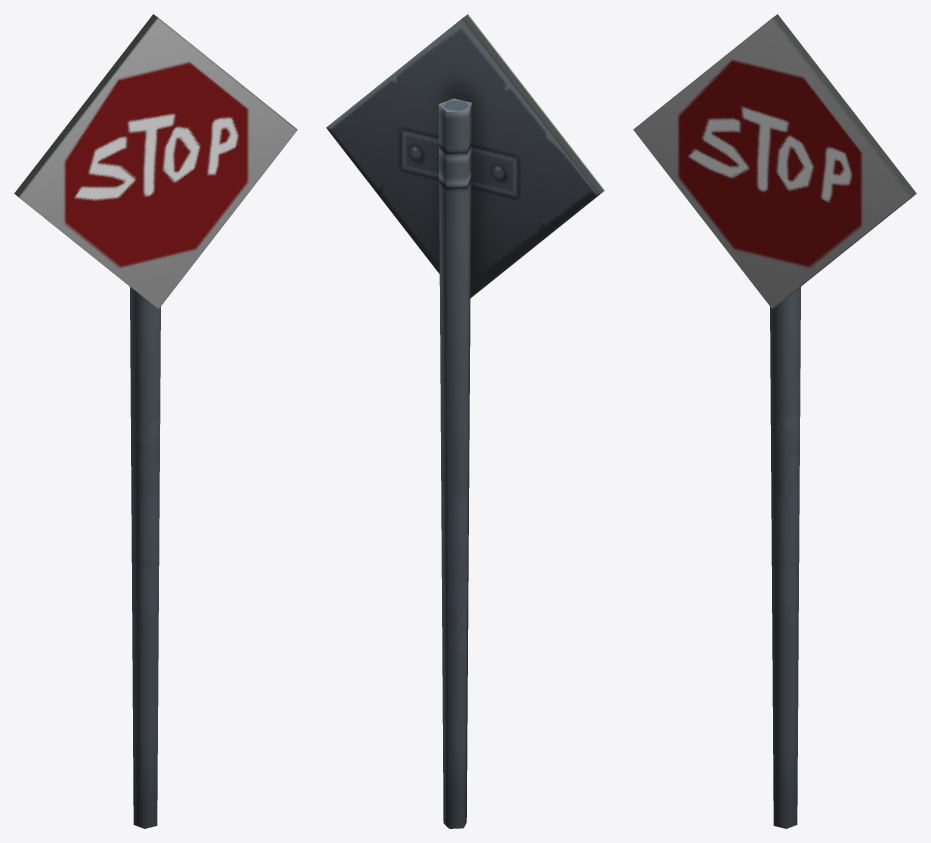
File: Signboard5.fbx
3 renders of one model, left to right at view 1: azimuth 30°, elevation 25°; view 2: azimuth 150°, elevation 25°; view 3: azimuth 330°, elevation 25°, orthographic.
Parts seen in each view (by area): view 1: polySurface140; view 2: polySurface140; view 3: polySurface140.
Boxes of the visible parts, left/top/right/bottom form: polySurface140: left=14, top=14, right=297, bottom=828; polySurface140: left=326, top=14, right=604, bottom=828; polySurface140: left=633, top=14, right=916, bottom=828.
Bounding box in the file's own units: 1.35 × 3.78 × 0.1806.
